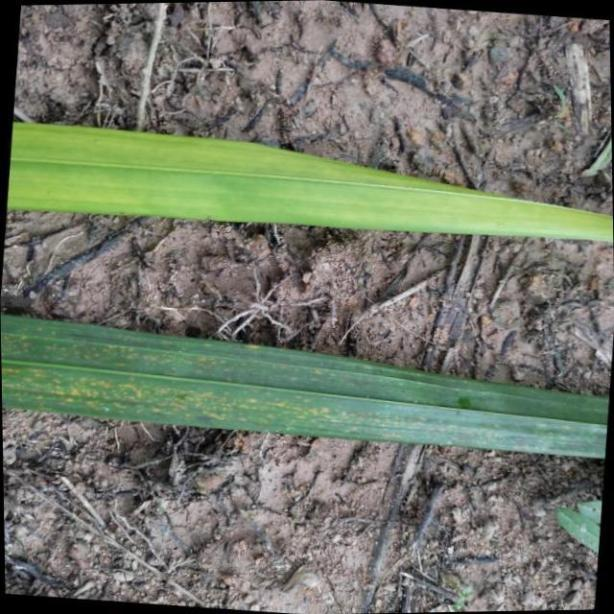nitrogen: (4, 312, 612, 464), (7, 118, 614, 242)
